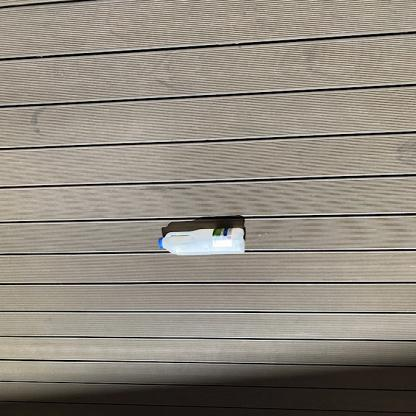trash: (157, 225, 250, 258)
